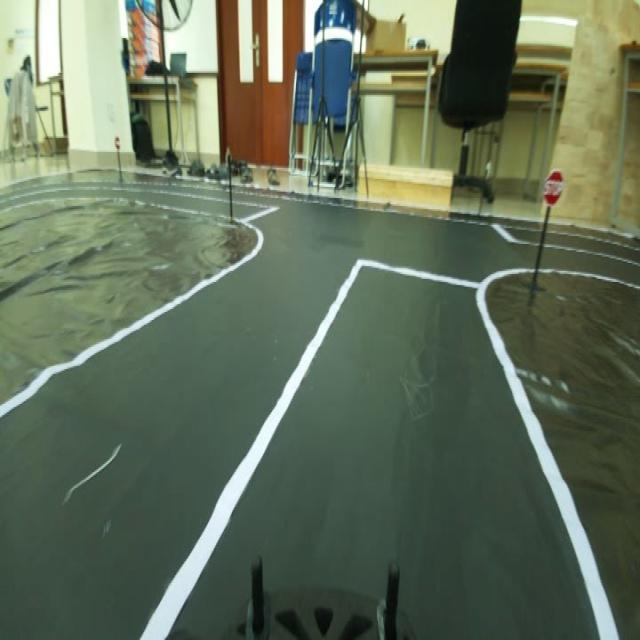stop: (540, 161, 567, 208)
